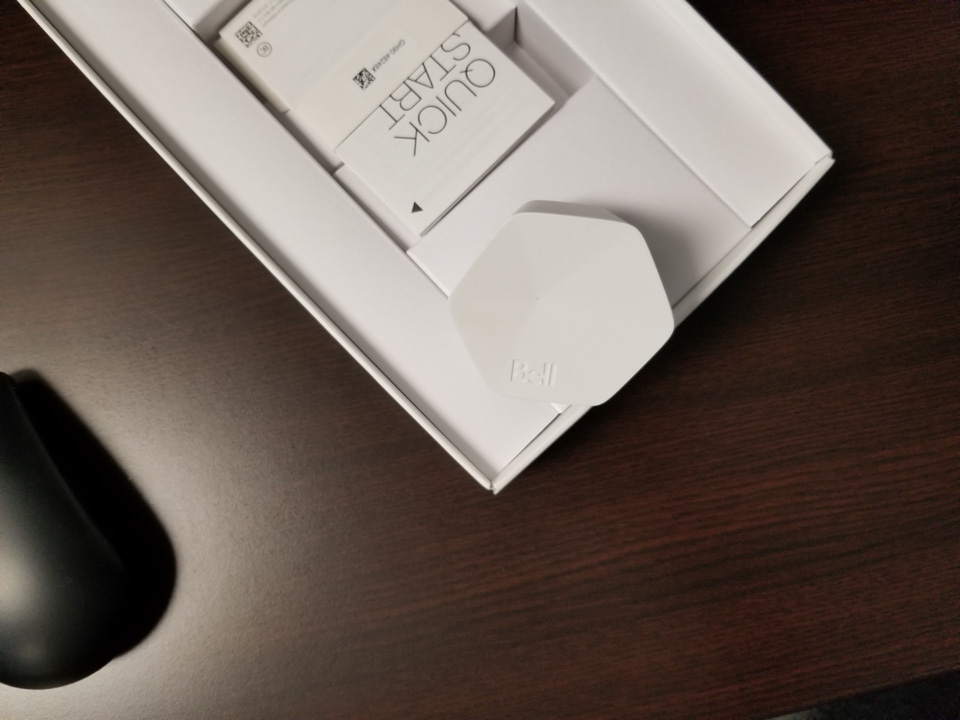pod: (440, 192, 686, 415)
